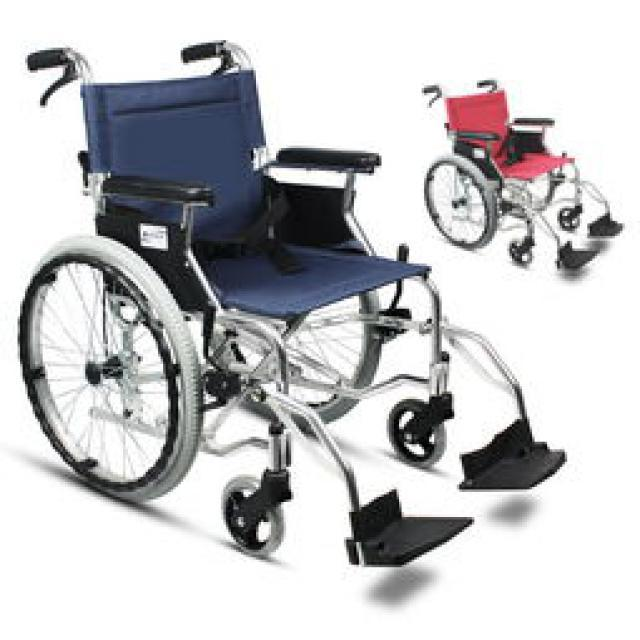wheelchair: (12, 32, 564, 578), (409, 68, 638, 274)
